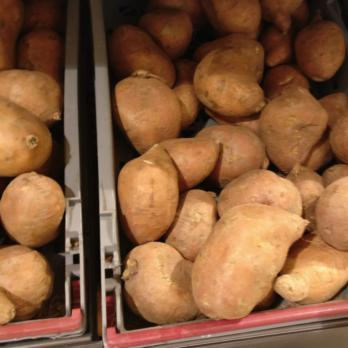Sweet potato: (121, 2, 348, 300), (1, 0, 61, 313)
